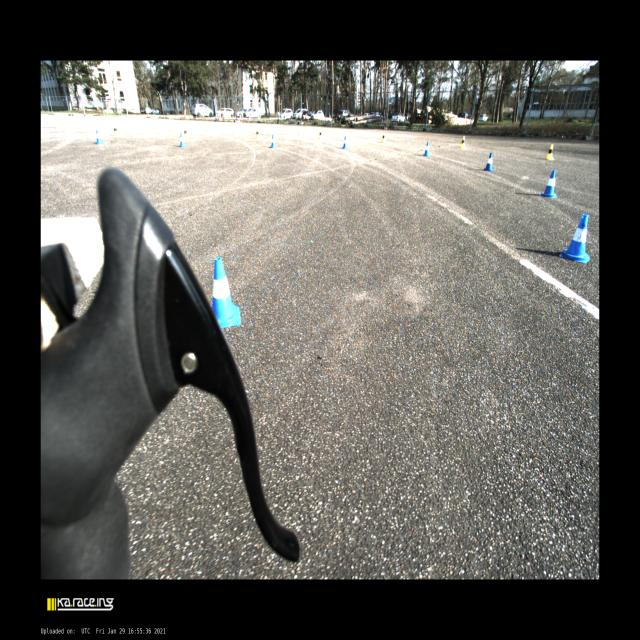blue_cone: (212, 257, 241, 328), (559, 214, 590, 263), (539, 170, 557, 198), (483, 152, 494, 171), (95, 128, 105, 144), (178, 132, 187, 147), (423, 142, 431, 156), (268, 134, 276, 148), (342, 136, 348, 150)
yellow_cone: (545, 144, 554, 160), (111, 124, 118, 136), (460, 136, 466, 150), (255, 128, 260, 139), (381, 132, 386, 143), (183, 128, 188, 138), (318, 131, 322, 140)
